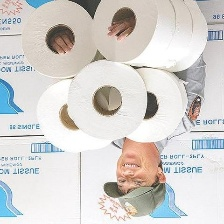tissue: (87, 0, 213, 77), (62, 55, 152, 145), (15, 0, 103, 83), (33, 74, 118, 156), (112, 63, 192, 147)
